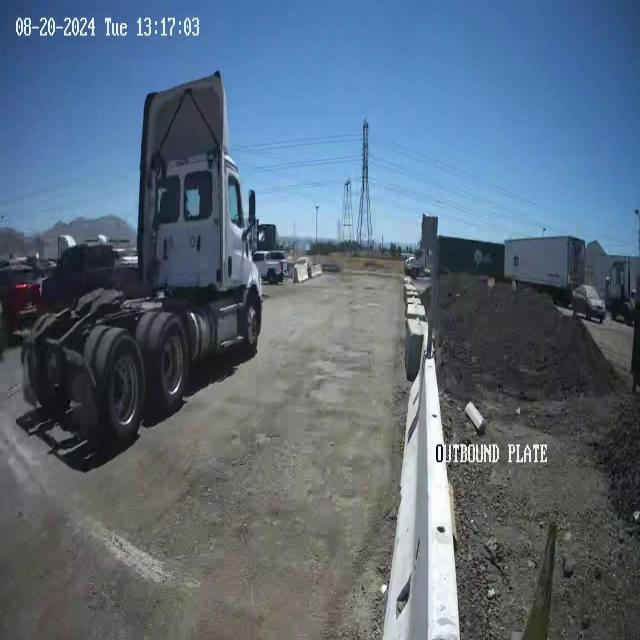TRUCK_IN: (16, 69, 263, 468)
